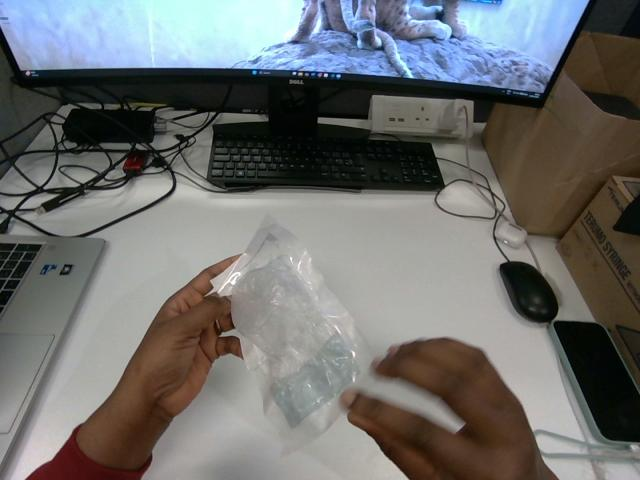gallipot: (213, 216, 371, 451)
